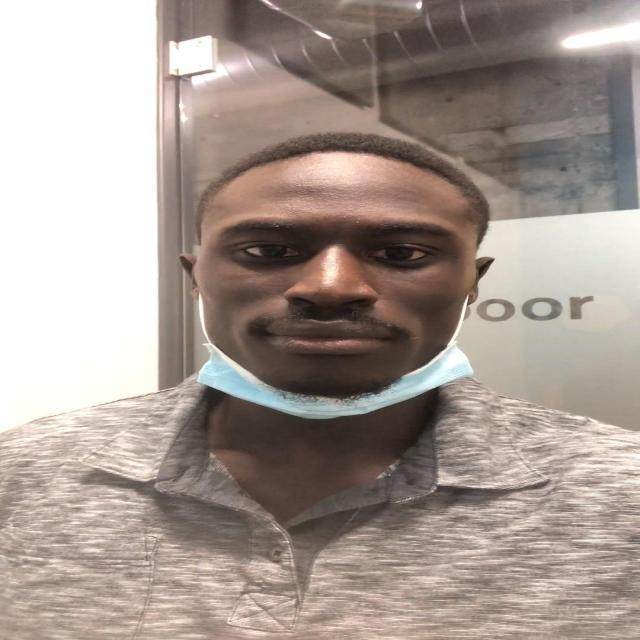face: (191, 148, 488, 398)
